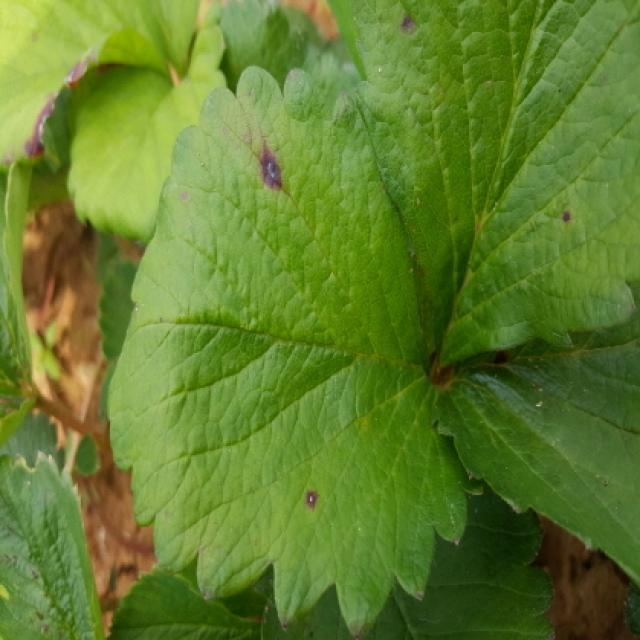Leaf Spot: (107, 66, 468, 638), (327, 0, 638, 374), (435, 313, 638, 587)
